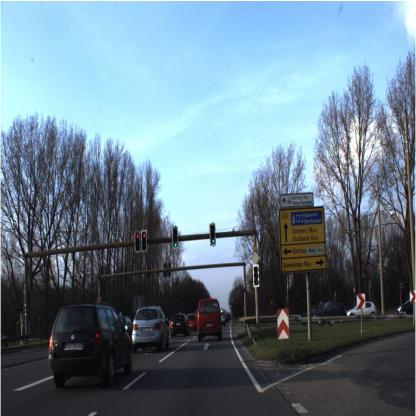other: (251, 251, 259, 267)
